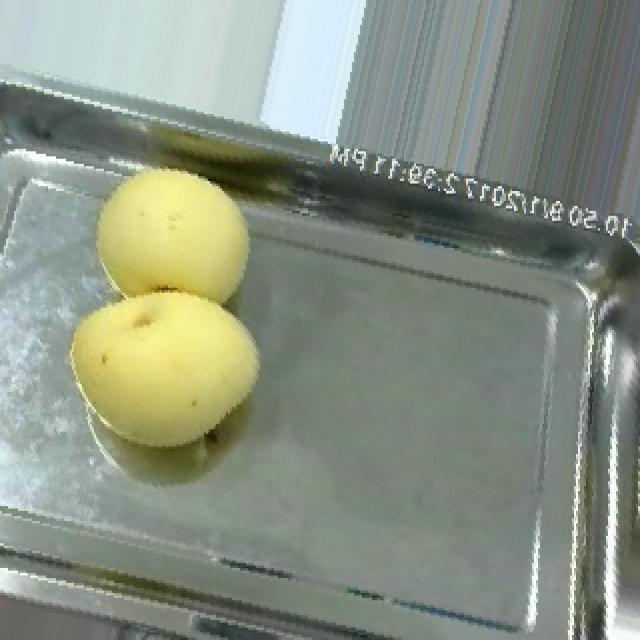Fruit: (48, 270, 282, 472), (70, 144, 274, 325)
